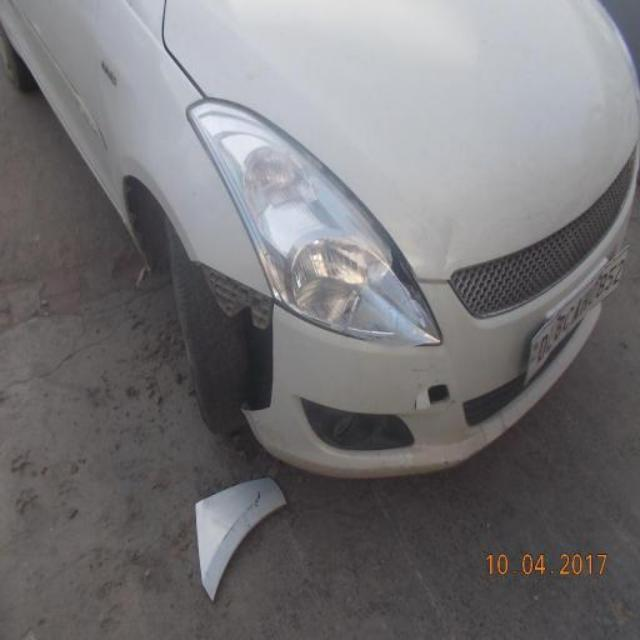lamp broken: (228, 98, 446, 349)
no part: (188, 263, 277, 414), (426, 381, 452, 412)
